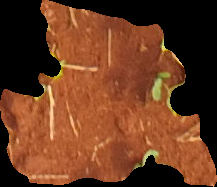soil: (1, 1, 217, 186)
